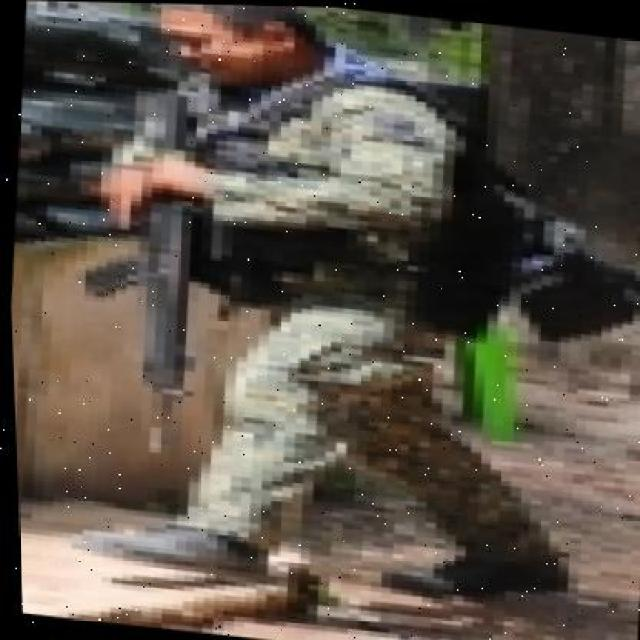MIL_Pax: (31, 0, 549, 583)
